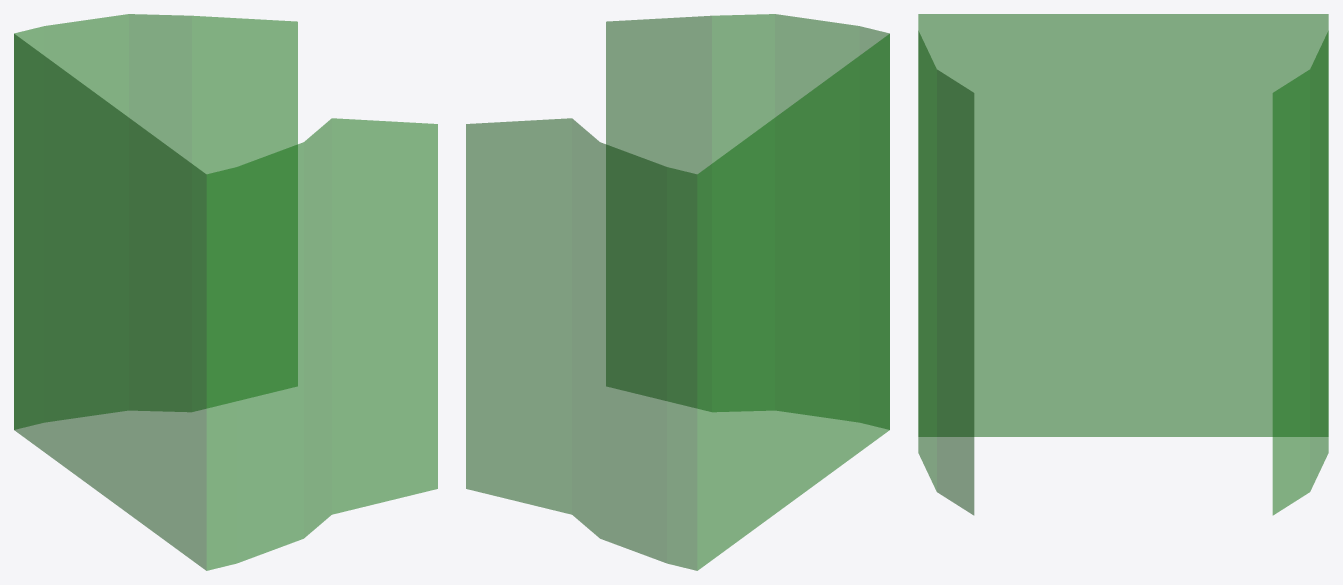
File: D07_wall02.obj
3 renders of one model, left to right at view 1: azimuth 30°, elevation 25°; view 2: azimuth 150°, elevation 25°; view 3: azimuth 270°, elevation 25°, orthographic. The views are drawn at different scales.
Bounding box in the file's own units: 17 × 25 × 22.
